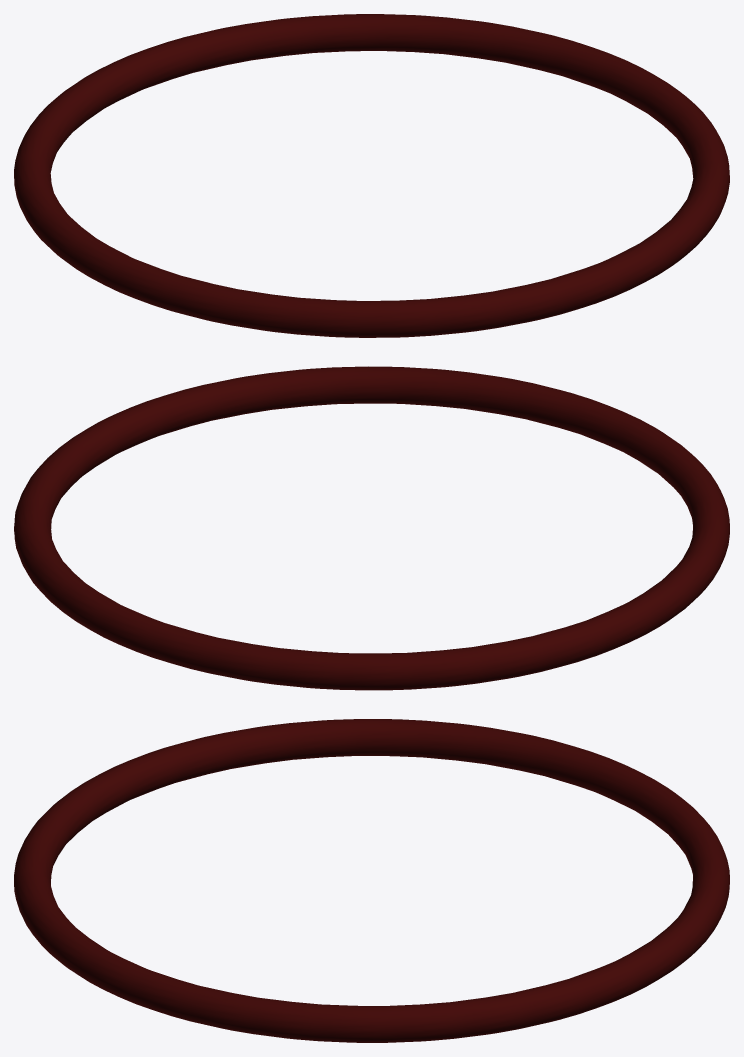
3 views of the same model, one above another, from view 1: azimuth 30°, elevation 25°; view 2: azimuth 150°, elevation 25°; view 3: azimuth 270°, elevation 25° (orthographic).
Visible parts, largest first — view 1: Torus; view 2: Torus; view 3: Torus.
Boxes of the visible parts, x1=… form: Torus: x1=14, y1=14, x2=729, y2=337; Torus: x1=14, y1=366, x2=729, y2=690; Torus: x1=14, y1=719, x2=729, y2=1042.
Size of the model in its own units: 54.56 by 54.56 by 2.82.
